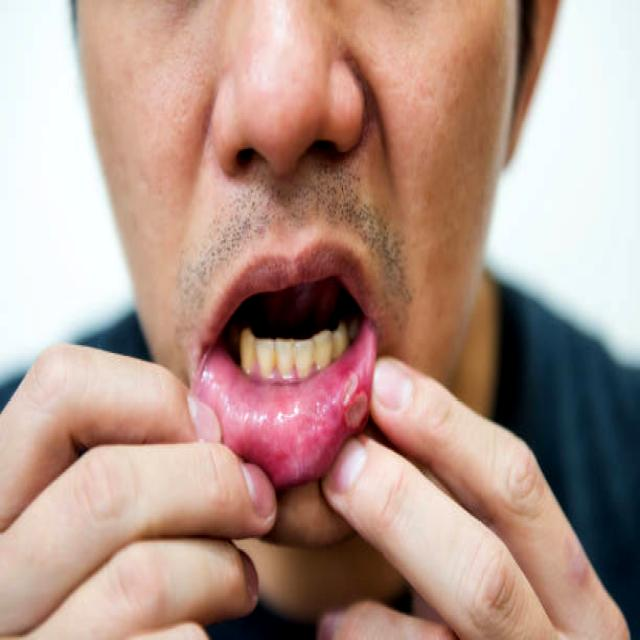ulcer: (336, 372, 369, 431)
